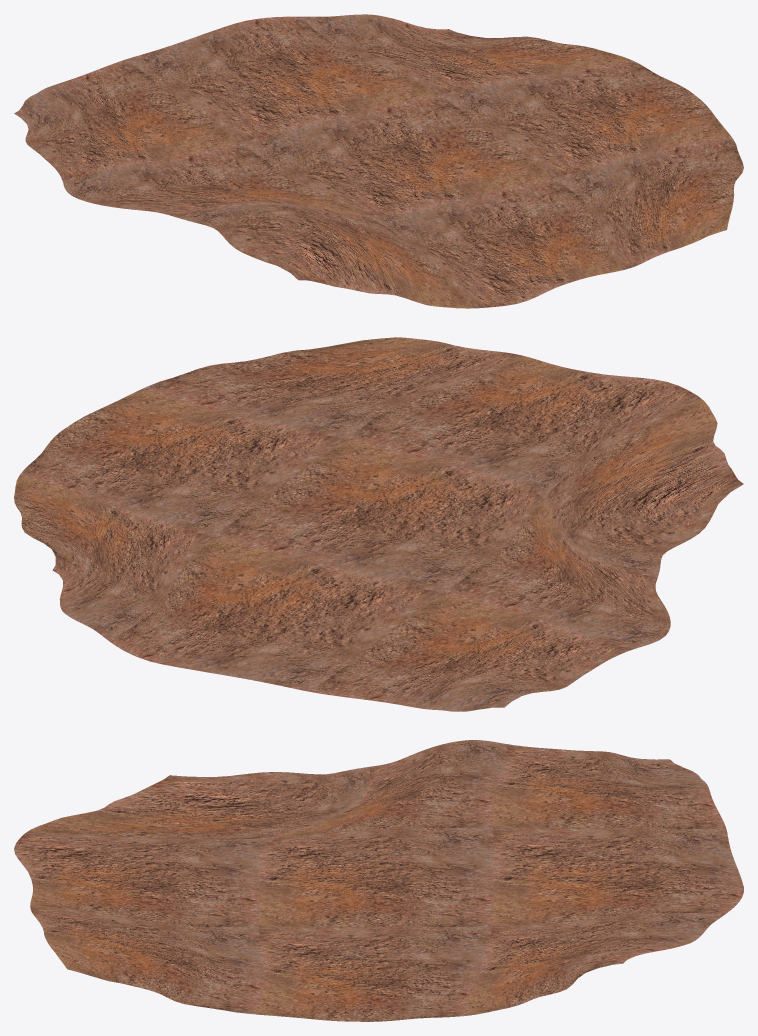
The model's file is dimian.fbx.
The picture shows the model from 3 angles, top to bottom: view 1: azimuth 30°, elevation 25°; view 2: azimuth 150°, elevation 25°; view 3: azimuth 270°, elevation 25°; orthographic projection. The views are drawn at different scales.
Visible parts, largest first — view 1: shandi:pPlane1; view 2: shandi:pPlane1; view 3: shandi:pPlane1.
Boxes of the visible parts, x1,y1,x2,y2 form: shandi:pPlane1: (14, 14, 743, 308); shandi:pPlane1: (14, 337, 743, 711); shandi:pPlane1: (14, 740, 743, 1021).
Bounding box in the file's own units: 8603 × 78.04 × 9368.
